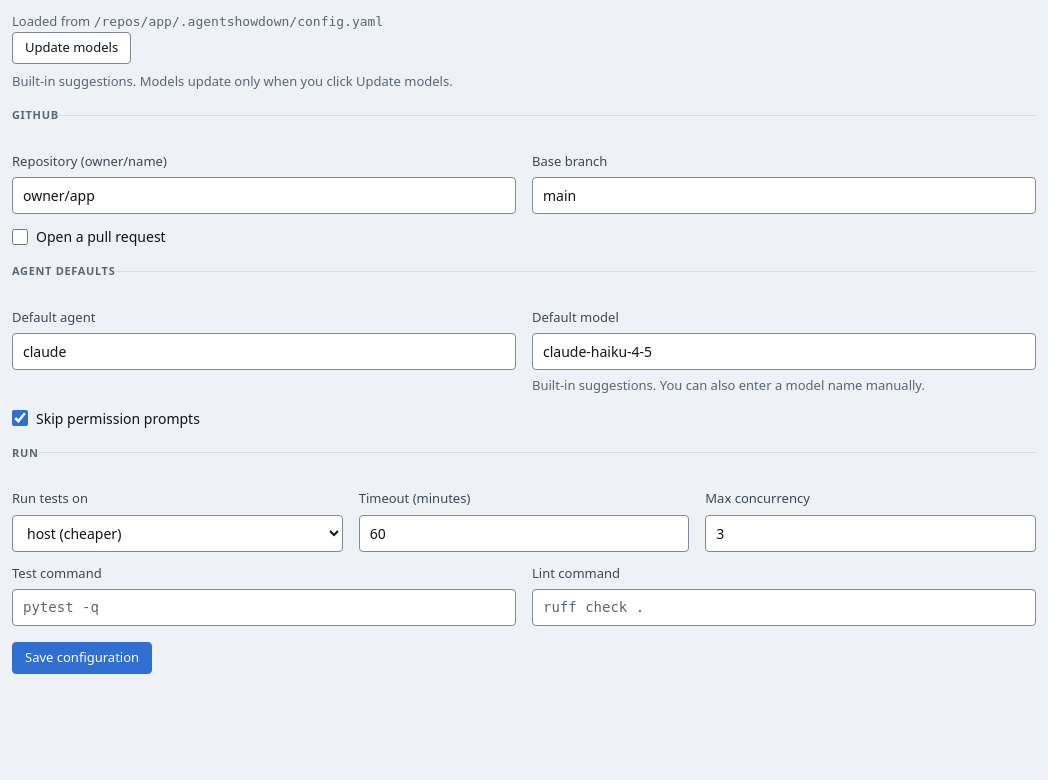
Test case: ConfigEditor › swaps the default model for the new agent's own when the agent changes
Type "codex" into the field labelled "Default agent" at {"x": 264, "y": 352}, box [12, 333, 516, 370]
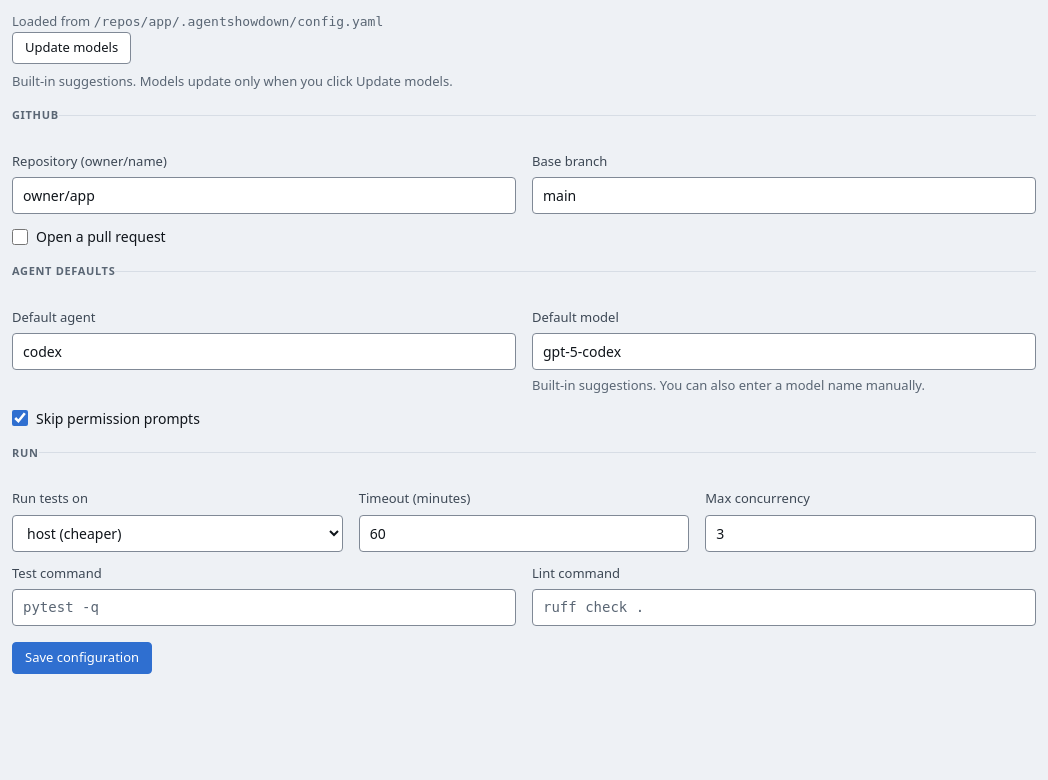
Expected: the field labelled "Default model" holds "gpt-5-codex", [532, 333, 1036, 370]
